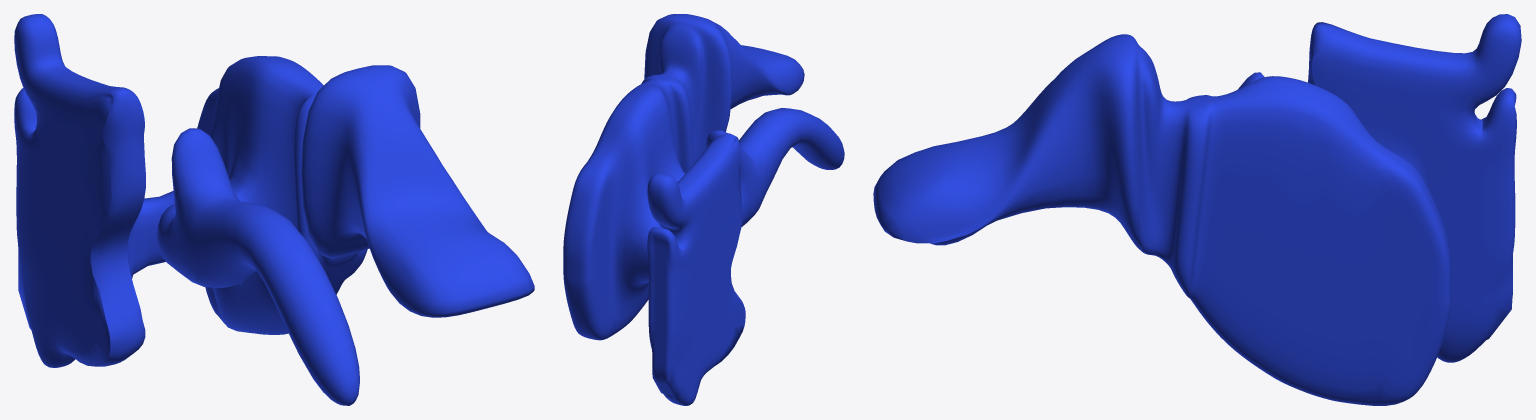
Rendered from Level1Knife.fbx.
3 views of the same model, side by side, from view 1: azimuth 30°, elevation 25°; view 2: azimuth 150°, elevation 25°; view 3: azimuth 270°, elevation 25° (orthographic). The views are drawn at different scales.
Visible parts, largest first — view 1: Rabbit_GO_EXPORT; view 2: Rabbit_GO_EXPORT; view 3: Rabbit_GO_EXPORT.
Part boxes in pixels (x1,y1,x2,y2): Rabbit_GO_EXPORT: [14, 14, 534, 405]; Rabbit_GO_EXPORT: [563, 14, 844, 405]; Rabbit_GO_EXPORT: [873, 14, 1521, 405].
Bounding box in the file's own units: 43.46 × 66.36 × 100.
